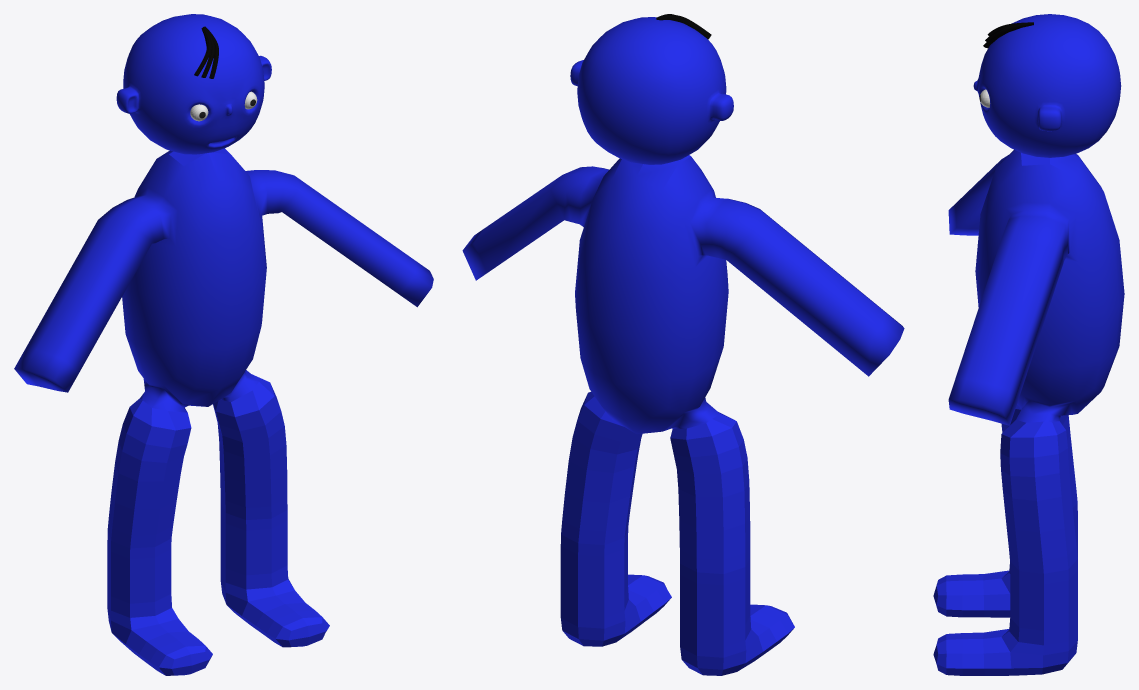
3 renders of one model, left to right at view 1: azimuth 30°, elevation 25°; view 2: azimuth 150°, elevation 25°; view 3: azimuth 270°, elevation 25°, orthographic. The views are drawn at different scales.
Parts seen in each view (by area): view 1: 立方体.003, 立方体; view 2: 立方体.003, 立方体; view 3: 立方体.003, 立方体.
Part boxes in pixels (box(x1,y1,x2,y2)): 立方体.003: box(14, 148, 433, 675); 立方体: box(116, 14, 271, 154); 立方体.003: box(462, 155, 904, 675); 立方体: box(570, 17, 733, 164); 立方体.003: box(933, 149, 1124, 675); 立方体: box(973, 14, 1121, 157).
Size of the model in its own units: 1.44 by 2.05 by 0.5725.
